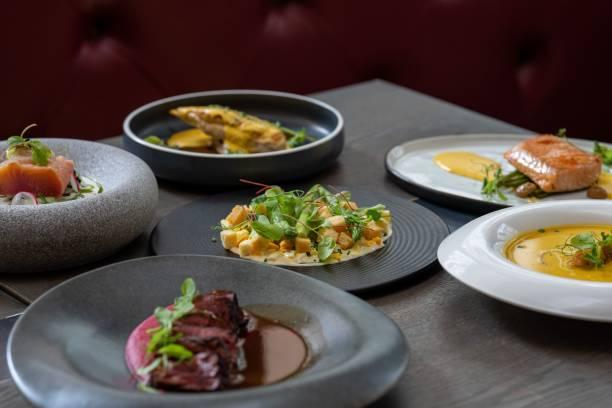Braised Crucian Carp: (7, 253, 407, 407), (155, 184, 445, 281), (430, 195, 612, 333), (120, 89, 341, 186), (0, 133, 158, 265), (381, 127, 612, 208)
